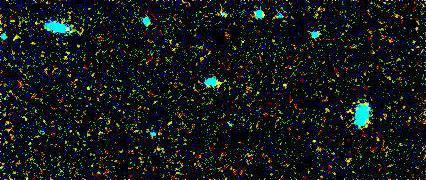star: (271, 71, 301, 101)
